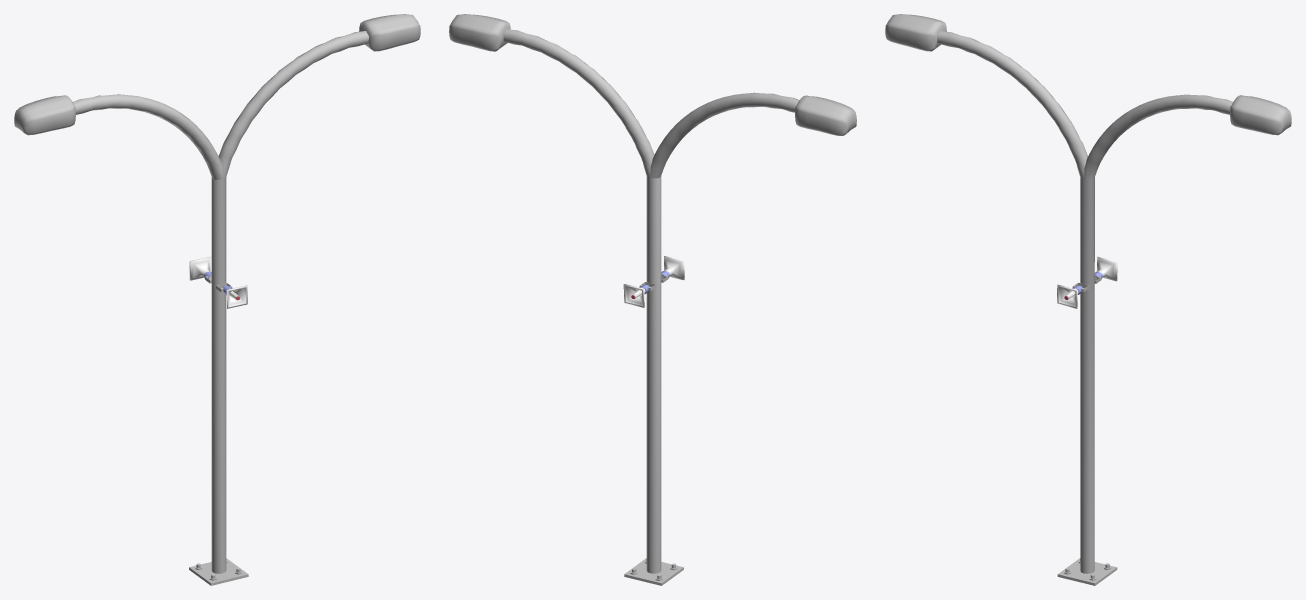
Rendered from DoubleStreetLampPostWithMegaphone.FBX.
3 views of the same model, side by side, from view 1: azimuth 30°, elevation 25°; view 2: azimuth 150°, elevation 25°; view 3: azimuth 330°, elevation 25° (orthographic).
Parts seen in each view (by area): view 1: DoubleStreetLampPostWithMegaphone; view 2: DoubleStreetLampPostWithMegaphone; view 3: DoubleStreetLampPostWithMegaphone.
Part boxes in pixels (x1,y1,x2,y2): DoubleStreetLampPostWithMegaphone: [14, 14, 420, 585]; DoubleStreetLampPostWithMegaphone: [449, 14, 856, 585]; DoubleStreetLampPostWithMegaphone: [885, 14, 1291, 585].
Size of the model in its own units: 9469 by 1678 by 11685.
Materials: 1 (1 with a texture image).
